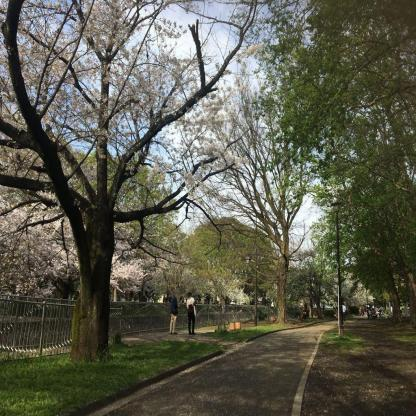Someiyoshino: (0, 0, 277, 242), (0, 168, 145, 297)
